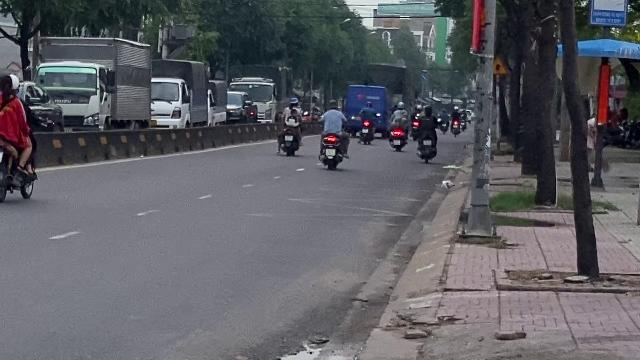motorcyclist: (0, 72, 40, 204)
nohelmet: (0, 74, 16, 94)
